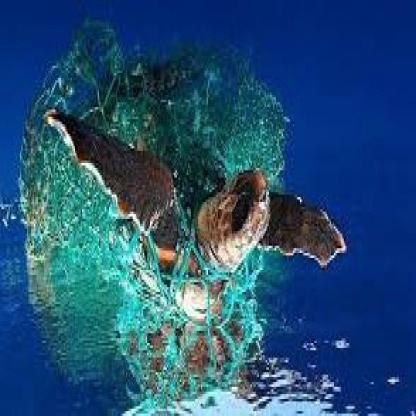net: (23, 49, 276, 377)
